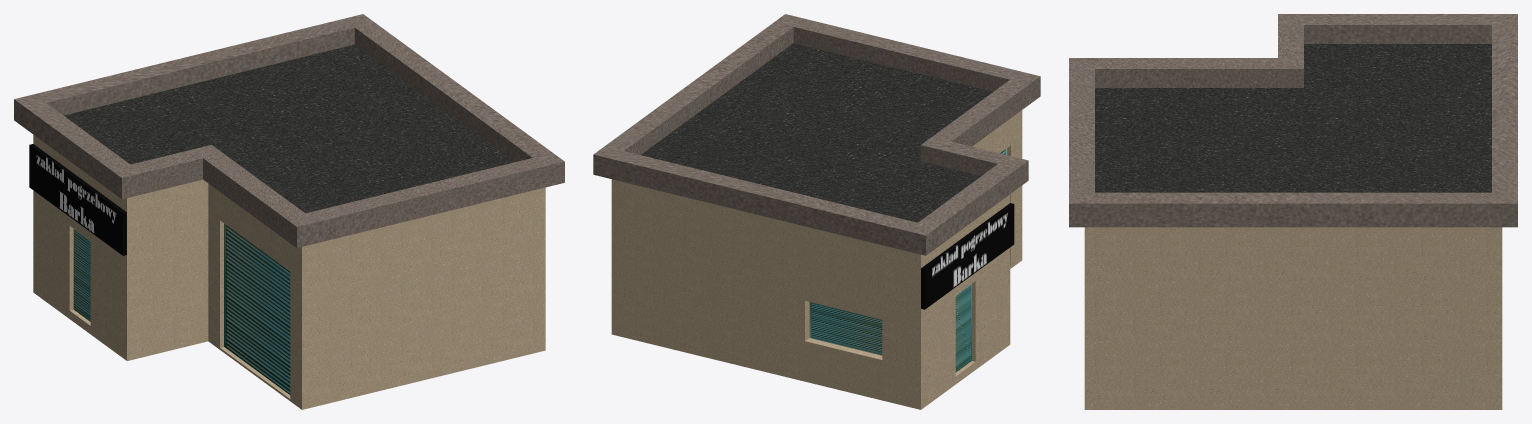
The model's file is model_zakład.fbx.
3 views of the same model, side by side, from view 1: azimuth 30°, elevation 25°; view 2: azimuth 150°, elevation 25°; view 3: azimuth 270°, elevation 25° (orthographic). The views are drawn at different scales.
Visible parts, largest first — view 1: zaklad; view 2: zaklad; view 3: zaklad.
Part boxes in pixels (<box>): zaklad: <box>14,14,564,409</box>; zaklad: <box>593,14,1040,409</box>; zaklad: <box>1069,14,1517,409</box>.
Bounding box in the file's own units: 860 × 450 × 860.
